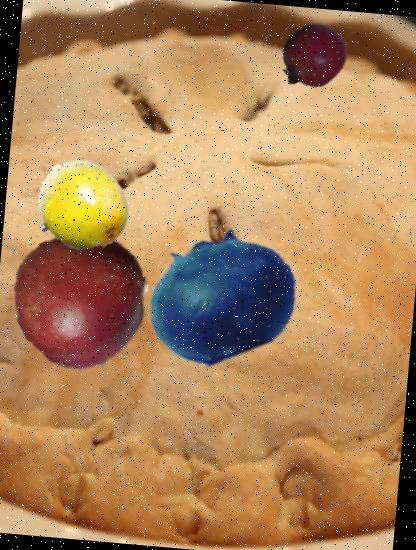Huckleberry: (141, 217, 302, 378)
Maracuja: (27, 156, 132, 260)
Nectarine: (9, 224, 158, 374)
Pomegranate: (274, 18, 352, 96)
